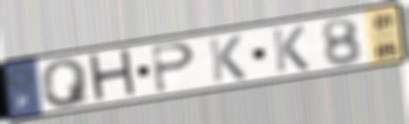8: (319, 17, 364, 68)
H: (86, 46, 141, 106)
K: (206, 33, 249, 84), (270, 23, 312, 74)
P: (150, 41, 198, 95)
Q: (38, 56, 93, 109)
